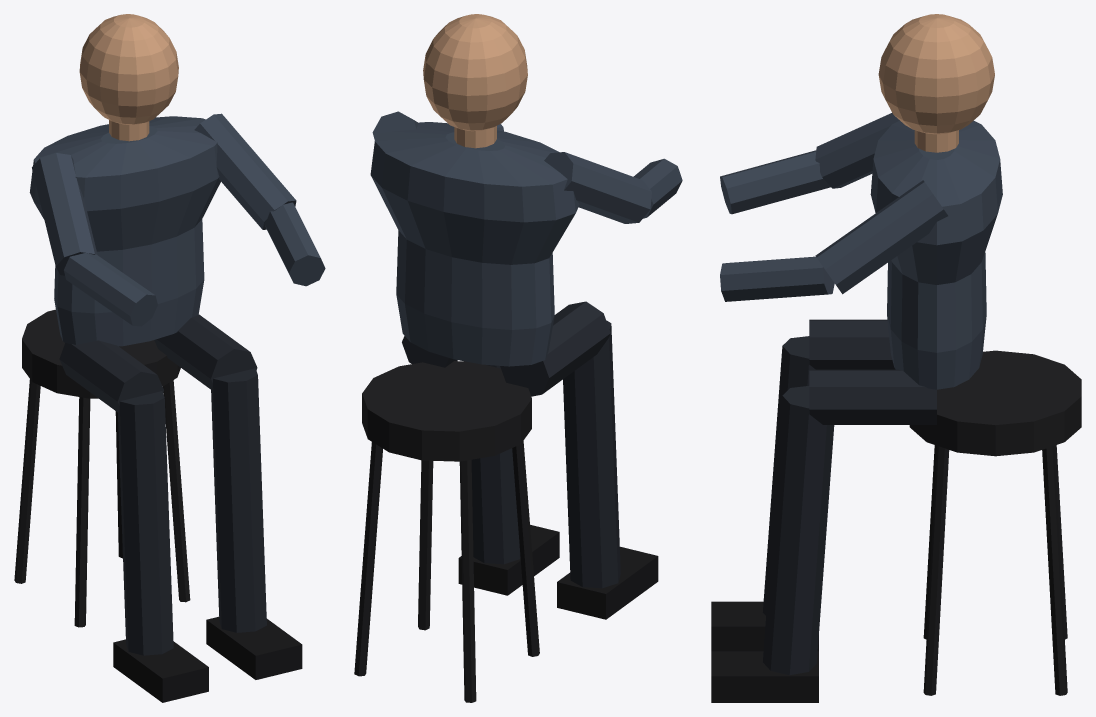
The model's file is figure-pianist.glb.
The picture shows the model from 3 angles, left to right: view 1: azimuth 30°, elevation 25°; view 2: azimuth 150°, elevation 25°; view 3: azimuth 270°, elevation 25°; orthographic projection. The views are drawn at different scales.
Parts seen in each view (by area): view 1: figure-legs, figure-torso, figure-sleeves, stool, figure-skin, figure-shoes; view 2: figure-torso, stool, figure-legs, figure-skin, figure-sleeves, figure-shoes; view 3: figure-legs, figure-torso, stool, figure-sleeves, figure-skin, figure-shoes.
Part boxes in pixels (<box>): figure-legs: <box>59,314,266,655</box>; figure-torso: <box>29,116,220,346</box>; figure-sleeves: <box>32,113,325,326</box>; stool: <box>14,309,190,627</box>; figure-skin: <box>79,14,178,141</box>; figure-shoes: <box>113,616,302,702</box>; figure-torso: <box>370,122,579,366</box>; stool: <box>354,361,539,702</box>; figure-legs: <box>402,301,620,588</box>; figure-skin: <box>423,14,527,148</box>; figure-sleeves: <box>372,111,682,223</box>; figure-shoes: <box>458,524,658,619</box>; figure-legs: <box>762,319,936,675</box>; figure-torso: <box>870,120,1002,389</box>; stool: <box>909,350,1081,695</box>; figure-sleeves: <box>720,113,947,301</box>; figure-skin: <box>878,14,994,152</box>; figure-shoes: <box>711,601,818,702</box>.
Size of the model in its own units: 0.6159 by 1.46 by 0.7555.
